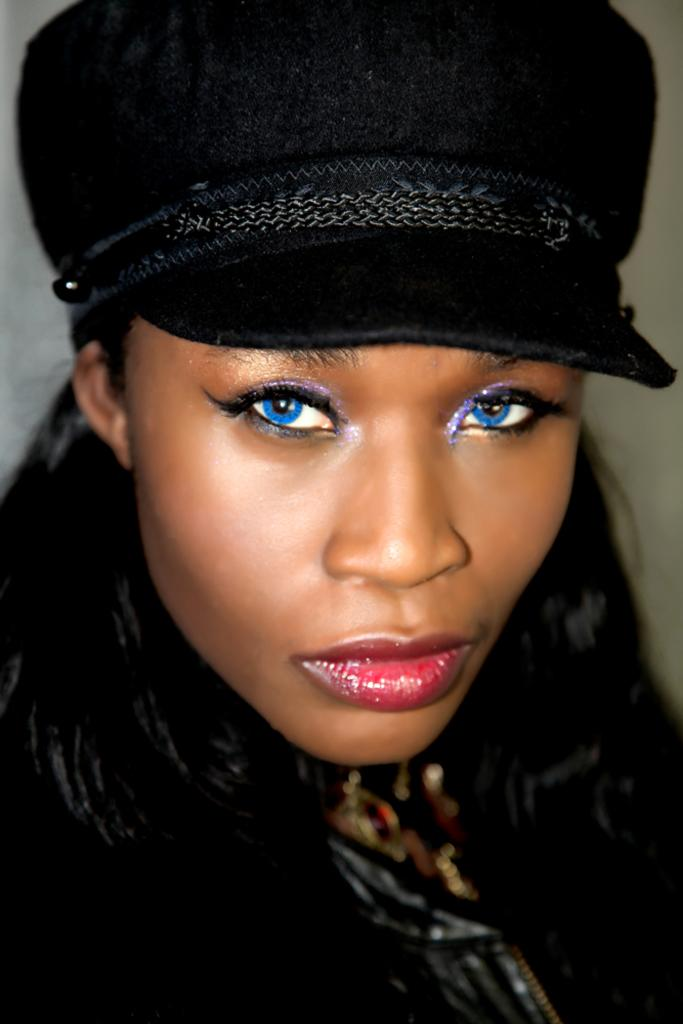Hat: (15, 0, 678, 391)
